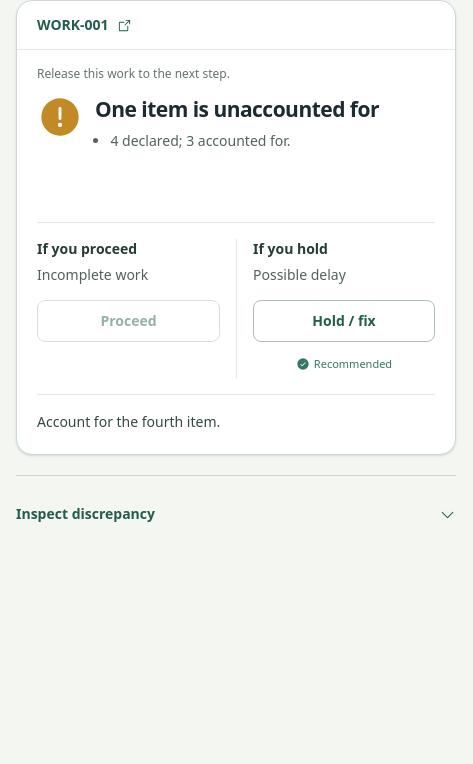
Test case: recommendation is not a selected or saved decision; hold needs an explicit reason
Check: the button "Proceed" is disabled, box [37,300,220,342]
Click the button "Hold / fix": (344,321) [253,300,435,342]
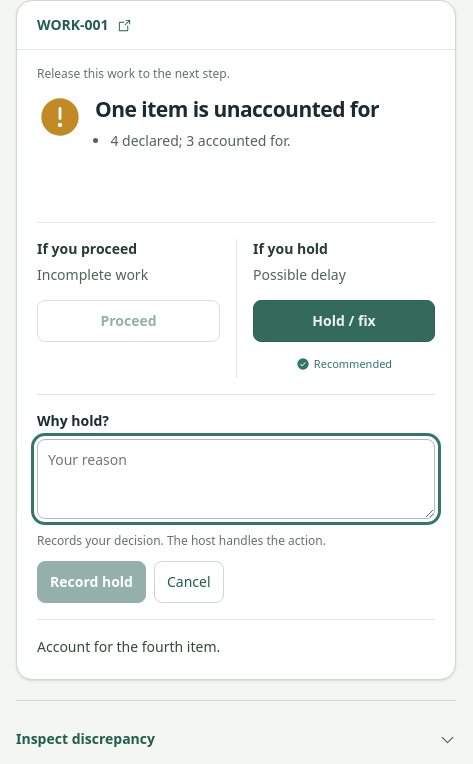
Check: the text box is empty
Check: the button "Record hold" is disabled, box [37,561,146,603]
In the text box: (236,479) [37,439,435,519], type "The fourth item needs confirmation."
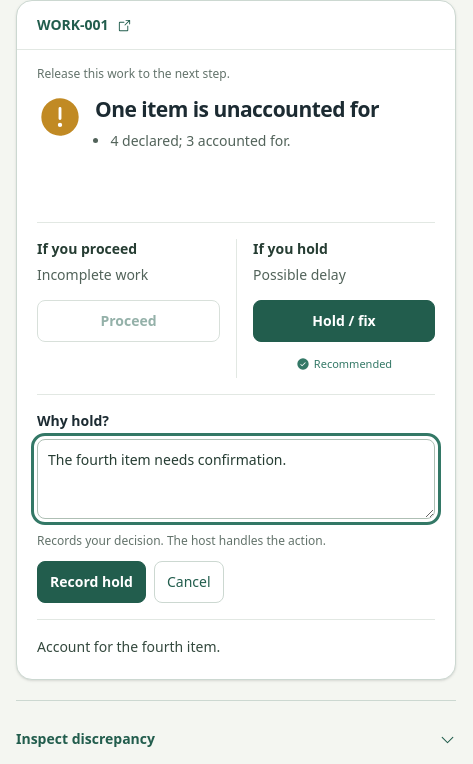
Click the button "Record hold": (92,582) [37,561,146,603]
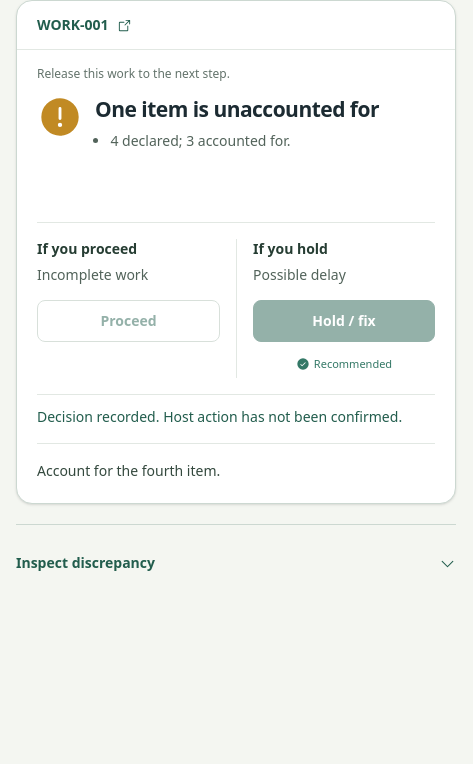
Check: the message shows "Host action has not been confirmed", box [37,407,402,426]
